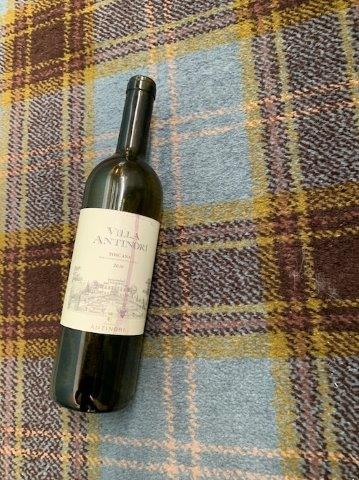botolkaca: (48, 75, 160, 413)
